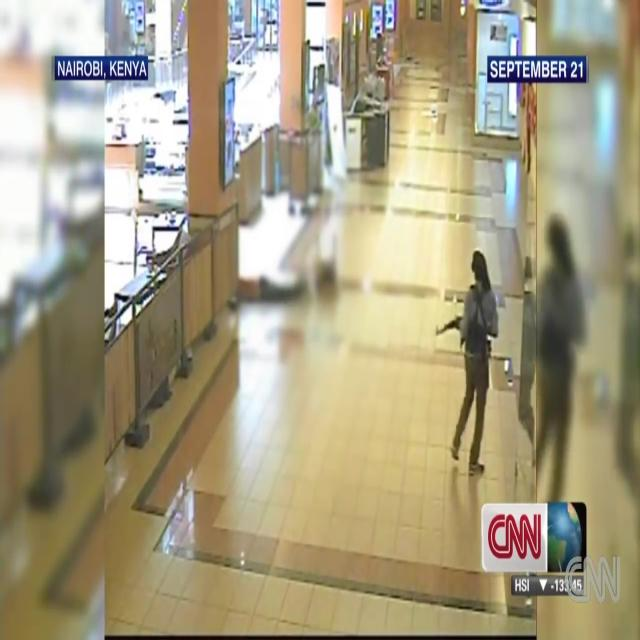Weapon: (430, 318, 490, 344)
